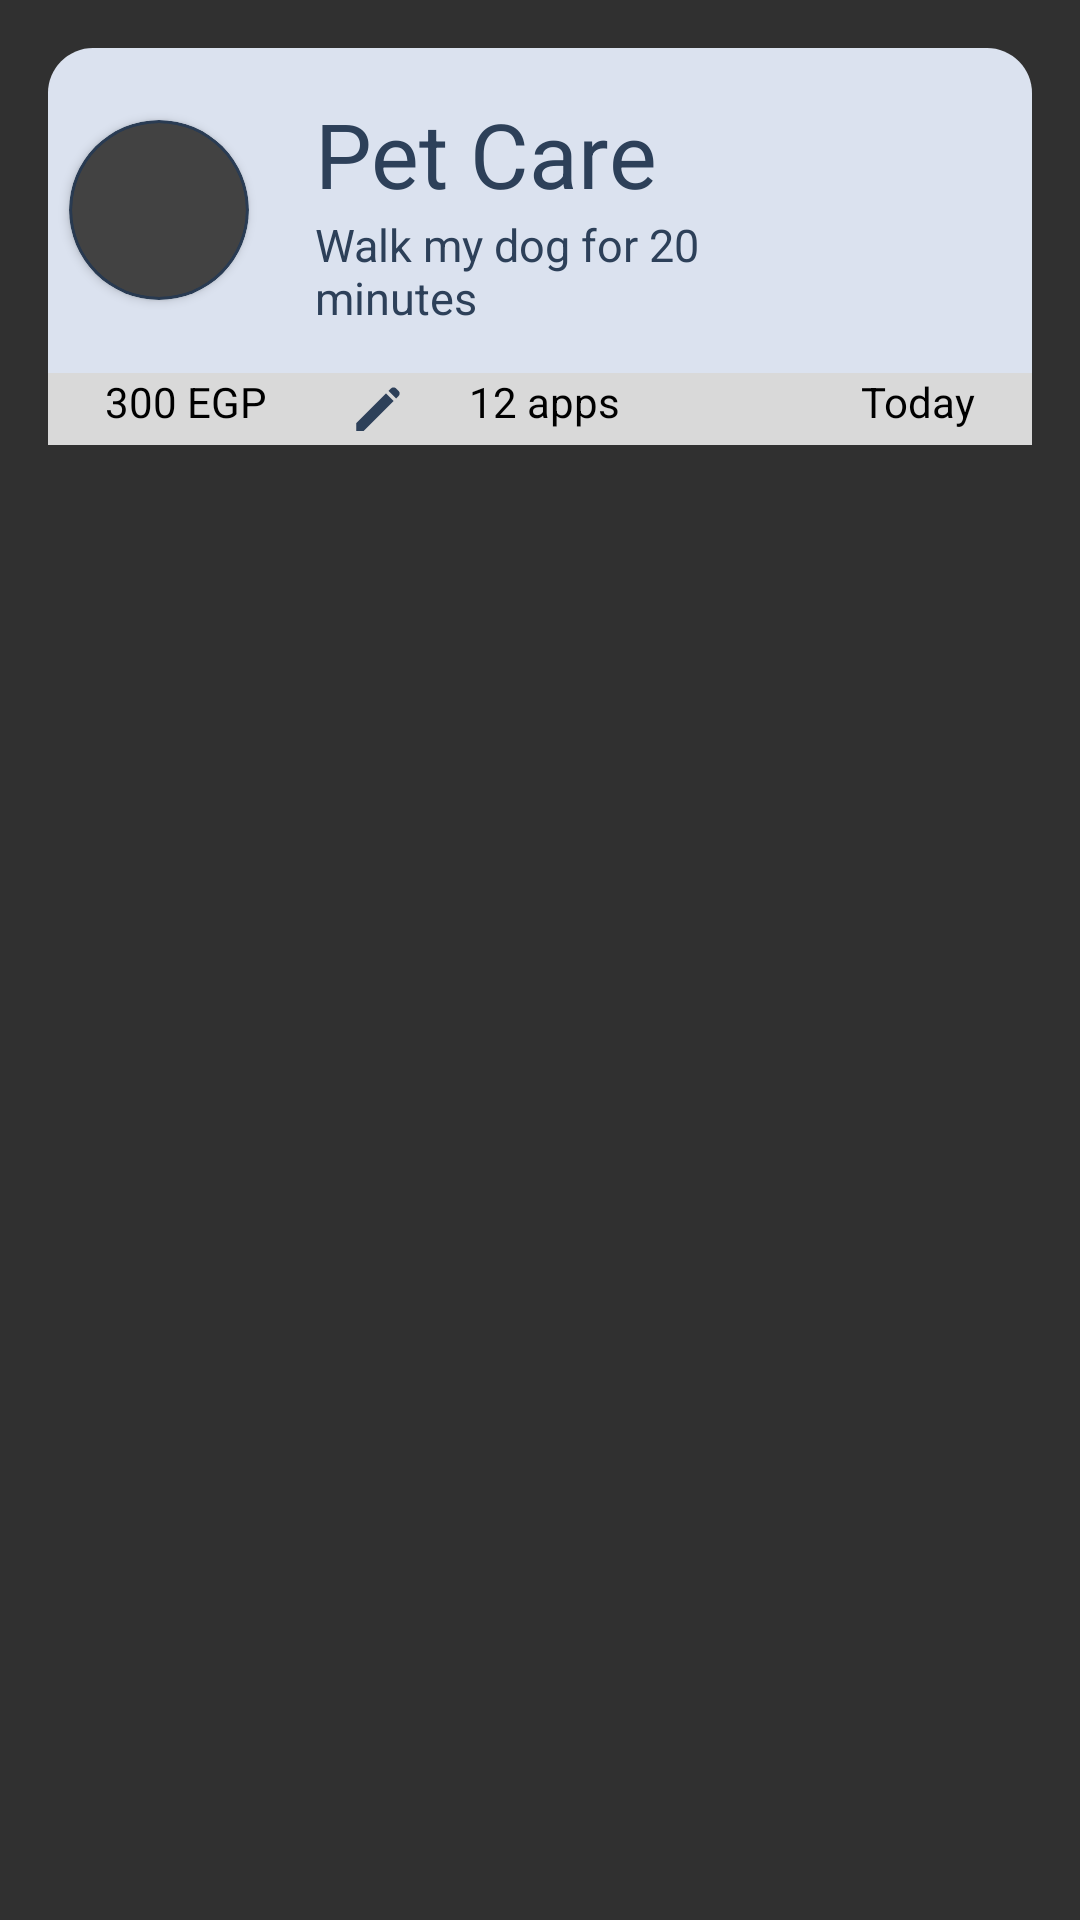

Point at icon controls on the screen. Image size 1080x1920, points as [x,y].
pencil: [378,409]
